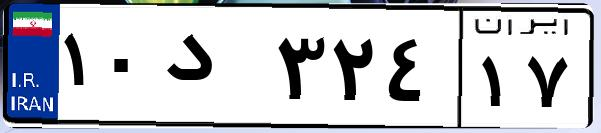0: (110, 28, 158, 98)
1: (57, 26, 110, 100), (475, 38, 525, 113)
2: (330, 28, 385, 110)
3: (270, 28, 330, 110)
4: (385, 28, 445, 110)
7: (525, 38, 570, 115)
د: (158, 20, 270, 120)
